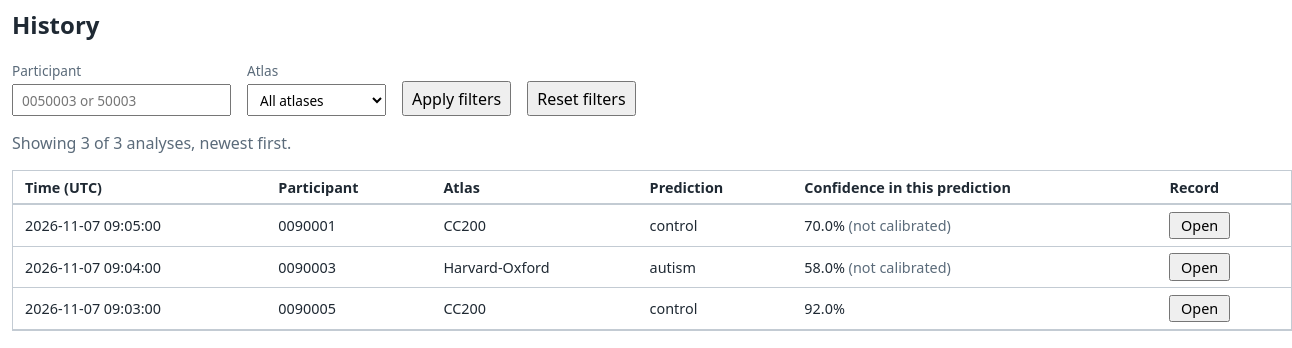
Test: History page › says so when no analysis matches the filters
Check: the text "Showing 3 of 3 analyses, newest first." is shown, box [12,132,291,154]
Select "AAL" in the dropdown labelled "Atlas" at {"x": 316, "y": 100}, box [247,84,386,116]
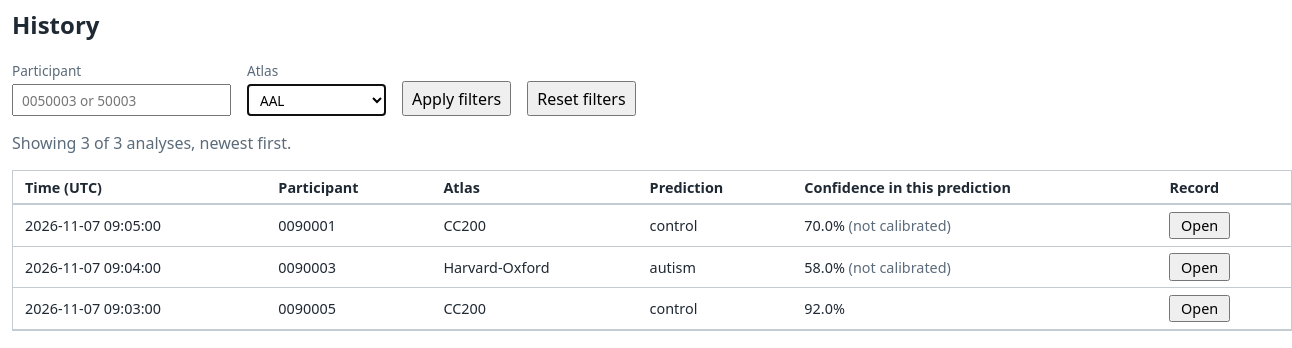
Click the button "Apply filters".
click(457, 99)  # box [402,81,511,116]
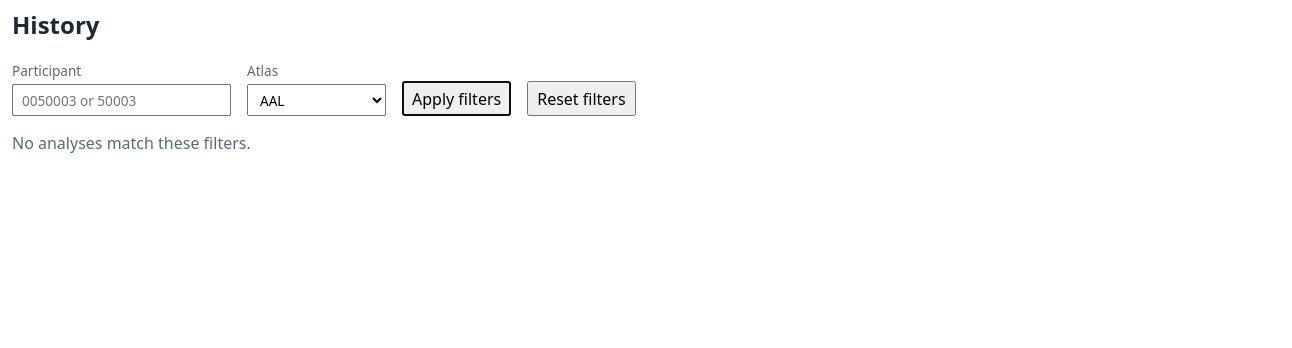
Check: the text "No analyses match these filters." is shown, box [12,132,251,154]
Check: the table is gone
